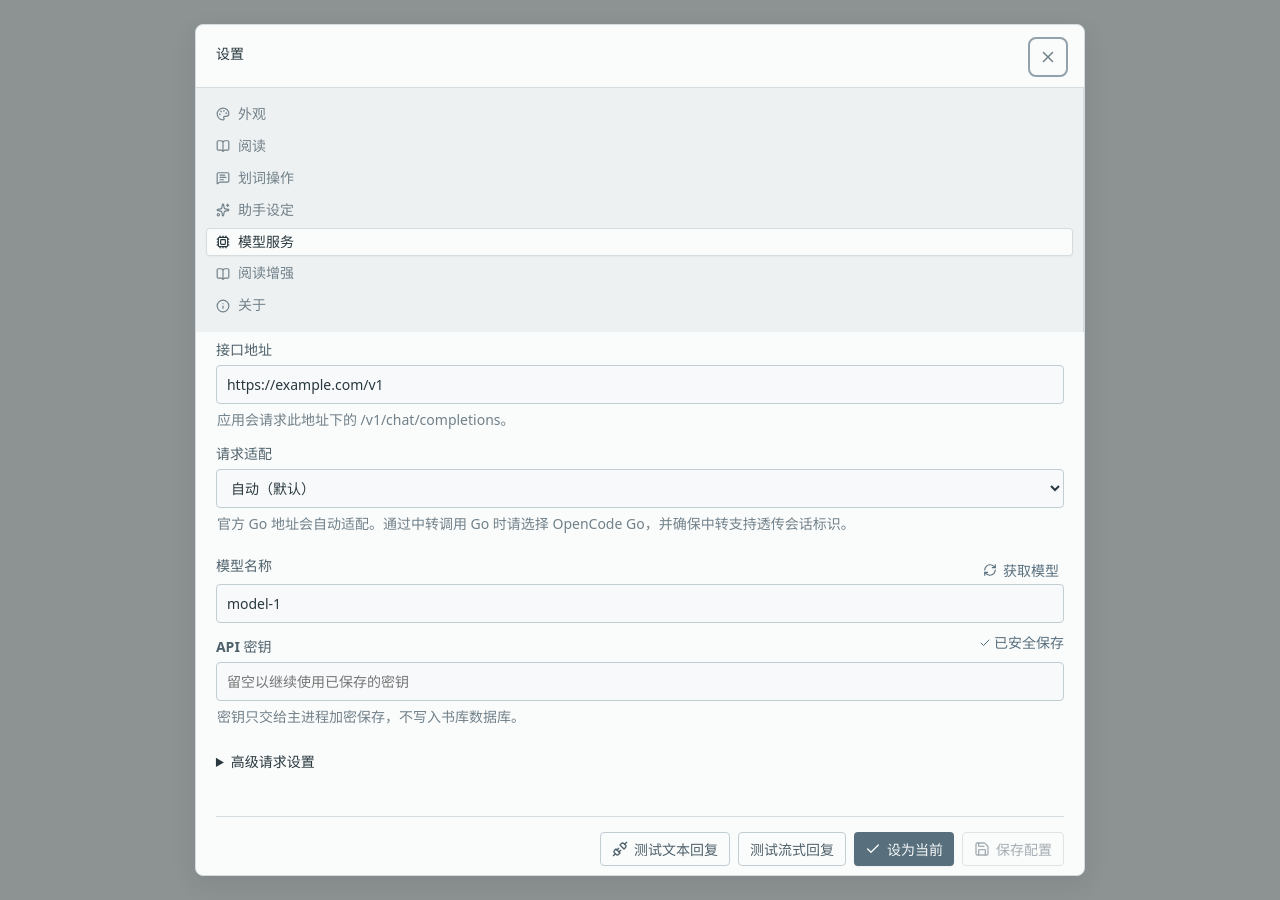
Test case: keeps a successfully saved profile if activation fails and retries activation without saving again
(page scrolled)
Replace the text in the dropdown with test id "provider-model" with "model-2": (640, 604) [216,584,1064,623]
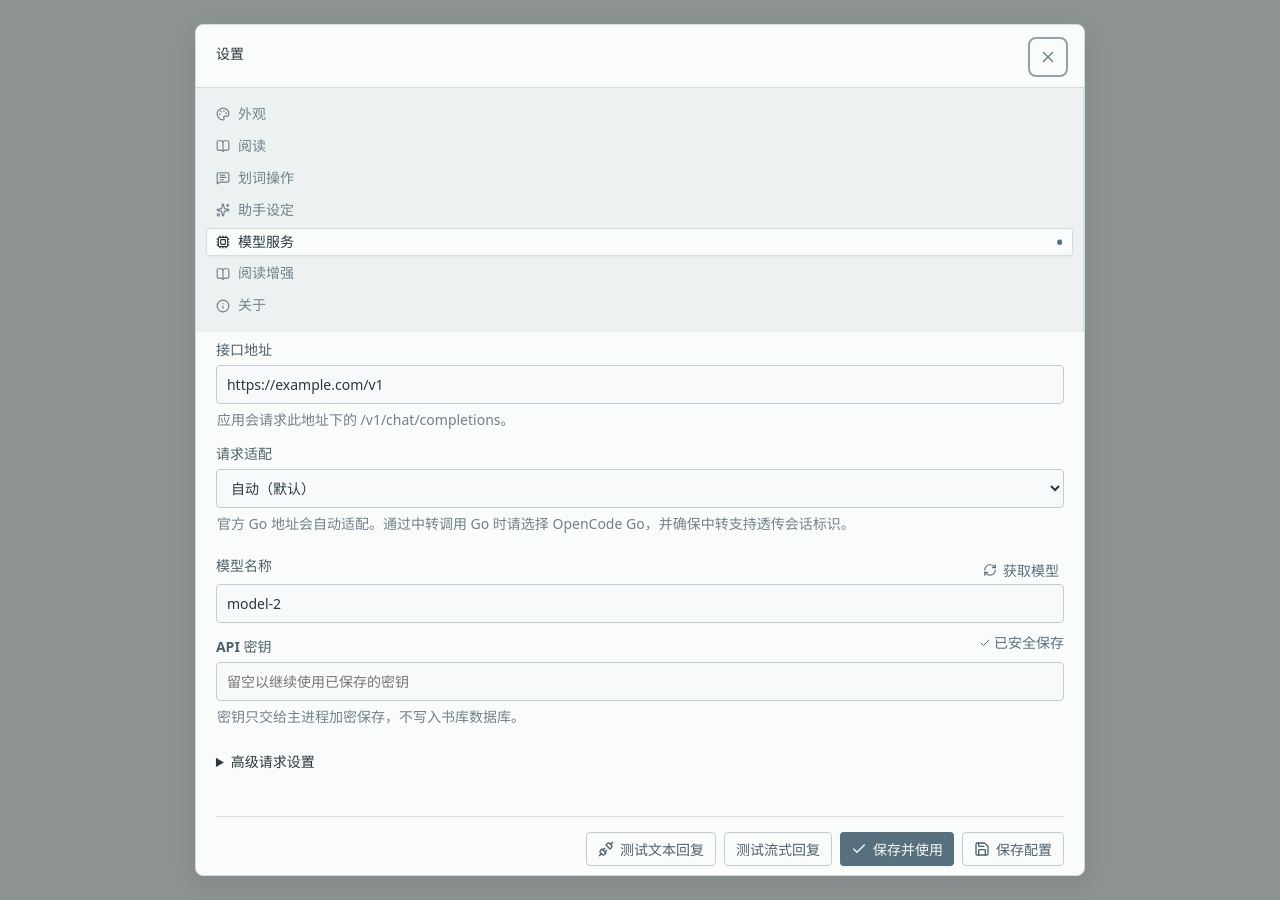
Click the button with test id "provider-activate": (897, 849) [840,832,954,866]
(page scrolled)
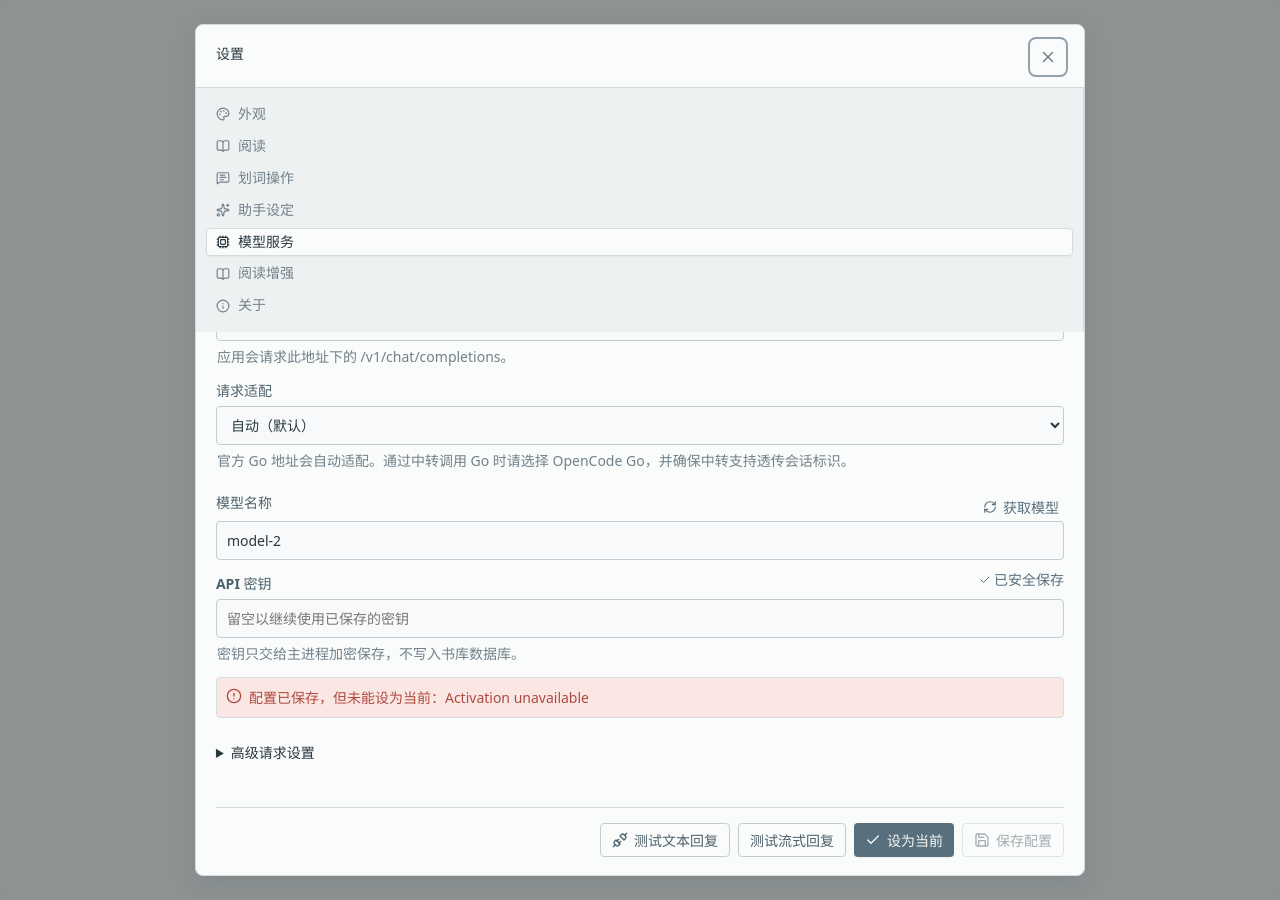
Expected: the message with test id "provider-status" shows "配置已保存，但未能设为当前", [249,688,589,707]
Expected: the button with test id "provider-activate" reads "设为当前"
Click the button with test id "provider-activate": (904, 840) [854,823,954,857]
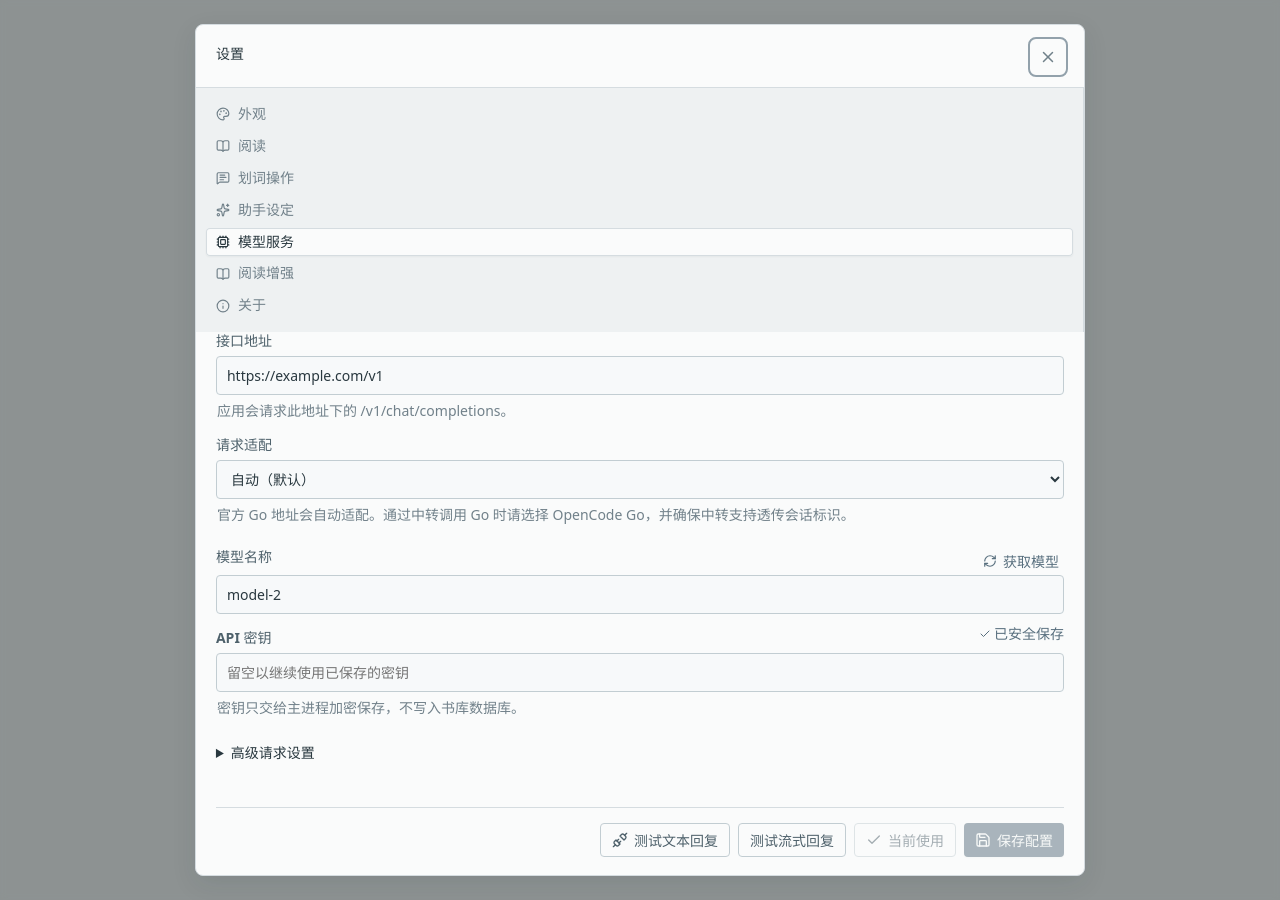
Expected: the button with test id "provider-activate" reads "当前使用", [854,823,956,857]
